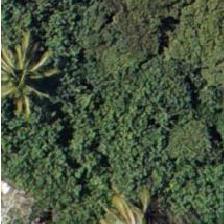coconut_tree: (0, 25, 56, 115)
